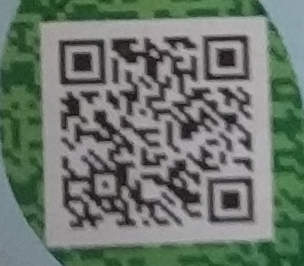QR_CODE: (41, 17, 271, 244)
